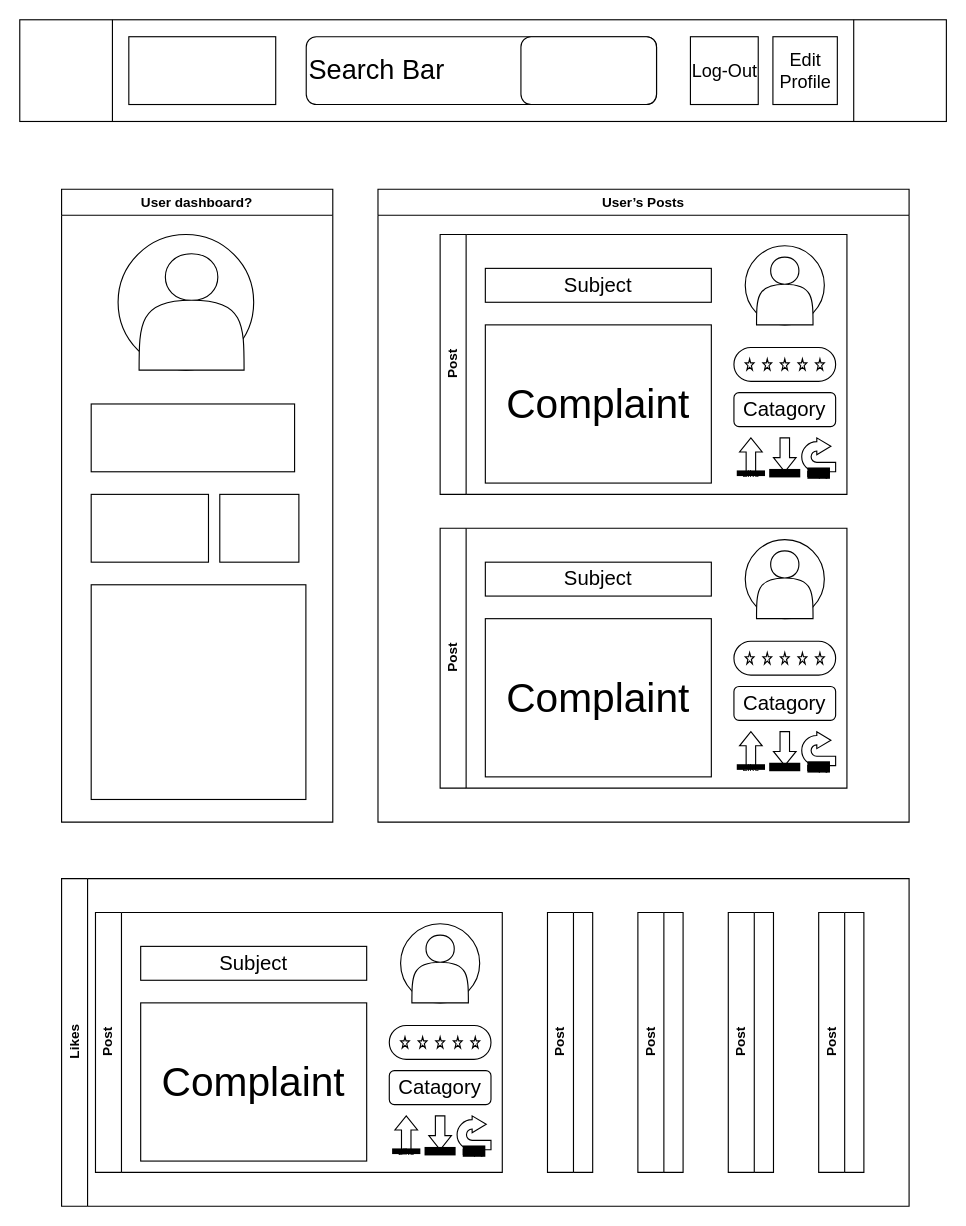
Image size: 966x1226. Some labels were removed from this diagram. Here are the shapes that lost their labels. From the top down, the centre of each, then its label:
At point (202, 70): "Logo".
At point (588, 70): "Filter Drop-down".
At point (192, 437): "Username".
At point (149, 527): "Hometown".
At point (259, 527): "Age".
At point (198, 691): "Bio".
